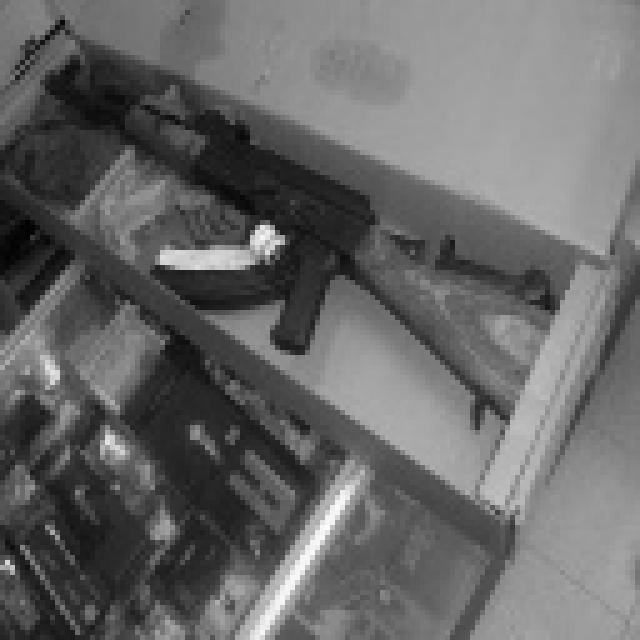Rifle: (0, 0, 600, 425)
